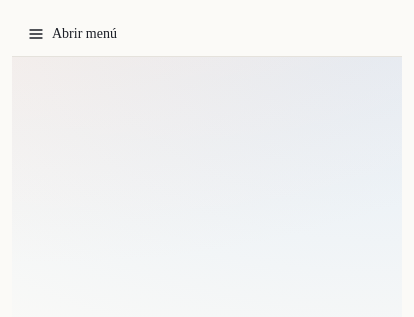
Test: SideNav › opens and closes on small screens with its toggle
Click the button "Abrir menú" at (84, 34), box [12,12,402,56]
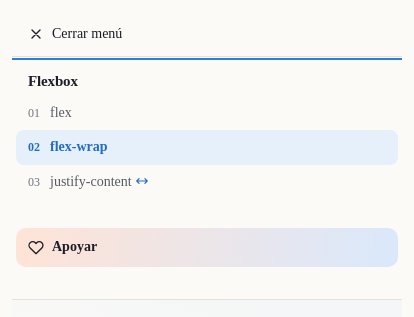
Expected: the button "Cerrar menú" is expanded, [12,12,402,56]
